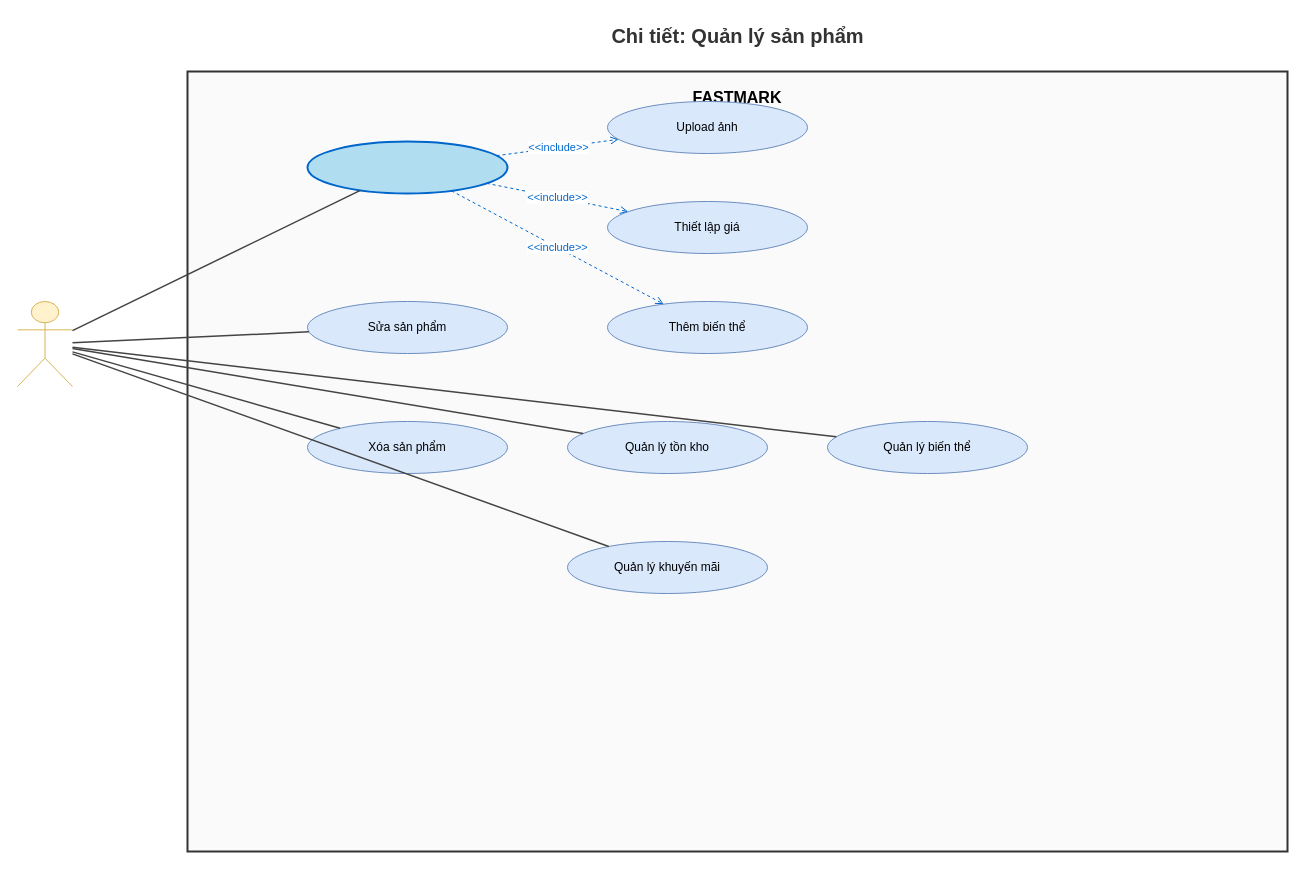
Image size: 1306x869. Some labels were removed from this diagram. Each missing label, with the centre of its shape:
"Seller" goes at [44,343].
"Thêm sản phẩm" goes at [407,167].
